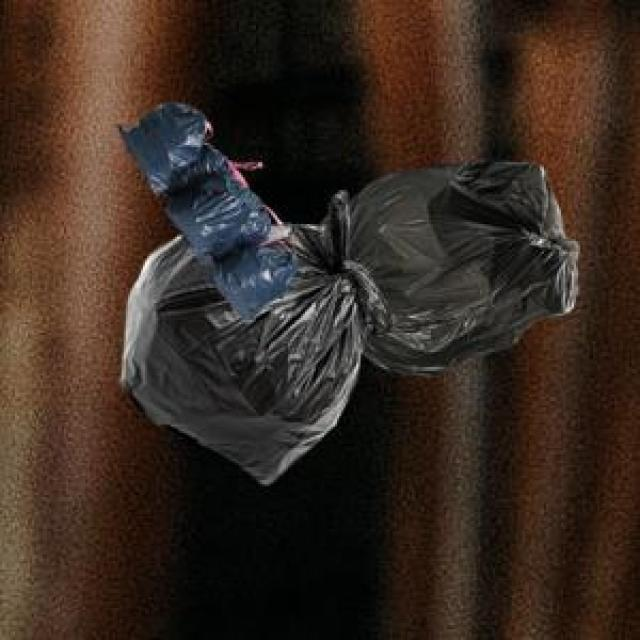waste: (122, 102, 579, 484)
